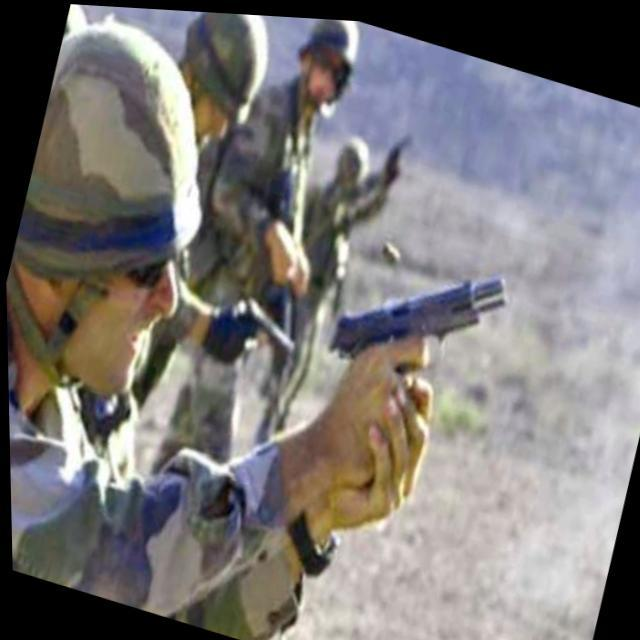weapon: (322, 222, 512, 396)
